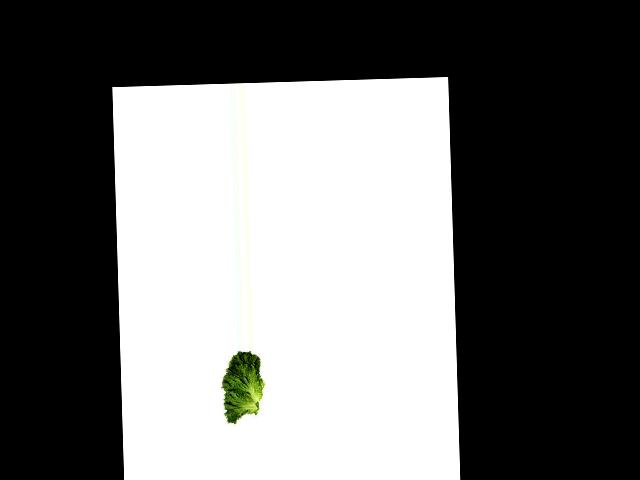lettuce: (215, 350, 268, 423)
